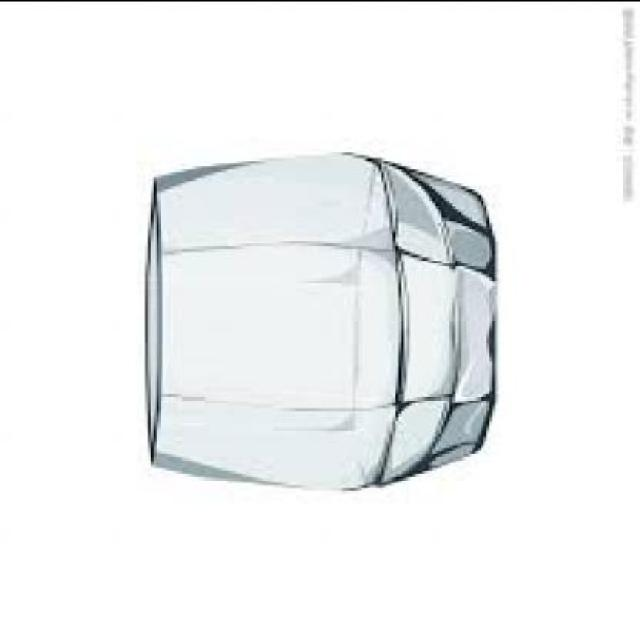glass: (145, 148, 492, 486)
